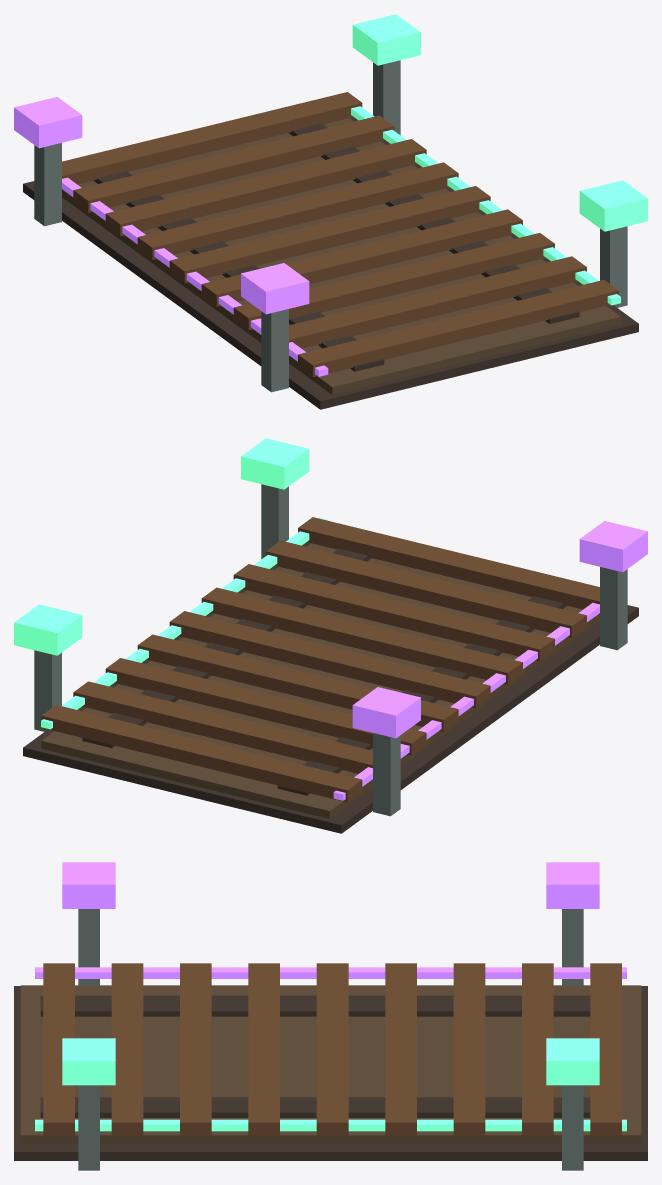
Rendered from supply_route_l02.glb.
3 renders of one model, top to bottom at view 1: azimuth 30°, elevation 25°; view 2: azimuth 150°, elevation 25°; view 3: azimuth 270°, elevation 25°, orthographic. The views are drawn at different scales.
Parts seen in each view (by area): view 1: supply_route_l02; view 2: supply_route_l02; view 3: supply_route_l02.
Boxes of the visible parts, x1,y1,x2,y2 form: supply_route_l02: (14, 14, 647, 409); supply_route_l02: (14, 438, 647, 833); supply_route_l02: (14, 862, 647, 1170).
Size of the model in its own units: 2.82 by 0.77 by 3.8.
